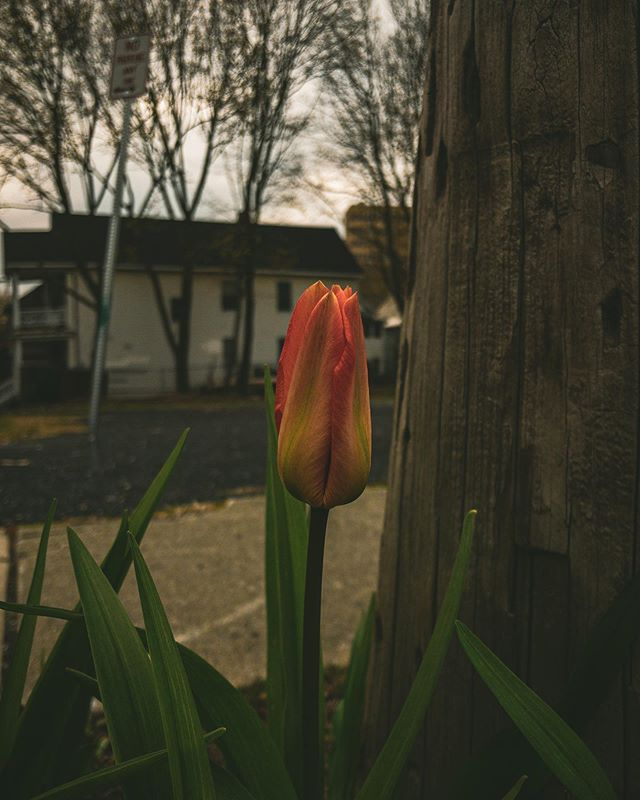building: (21, 207, 368, 391)
flowers: (234, 270, 409, 794)
vegetation: (1, 1, 412, 222)
